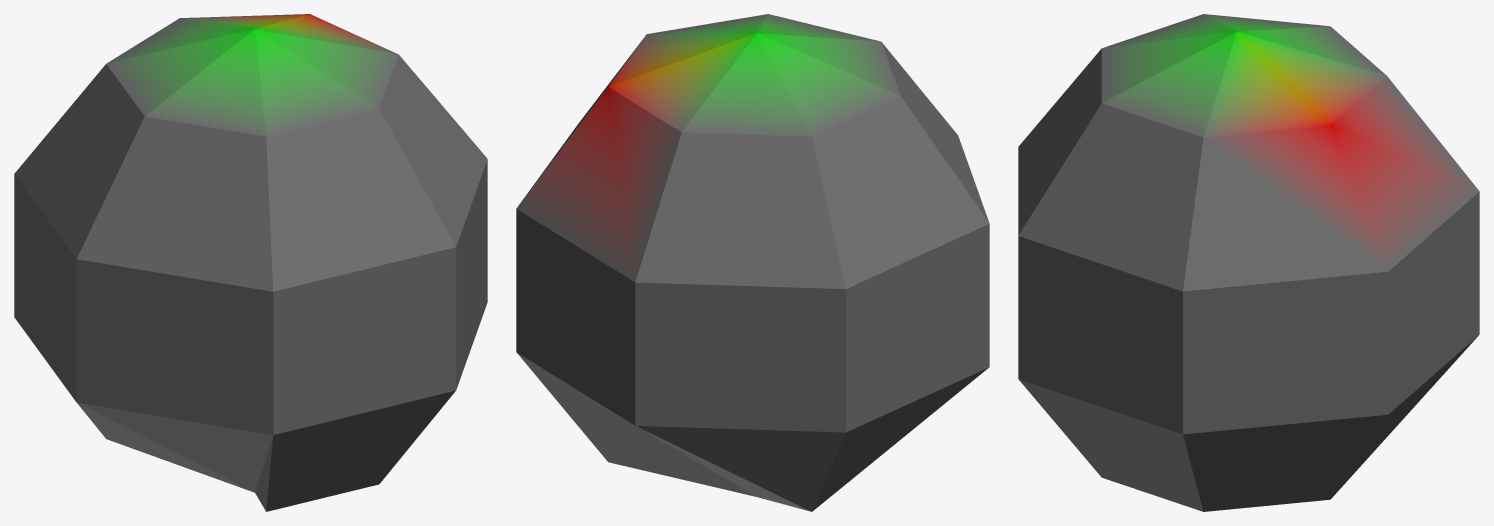
File: re_decimating_conquest_11_before.obj
3 renders of one model, left to right at view 1: azimuth 30°, elevation 25°; view 2: azimuth 150°, elevation 25°; view 3: azimuth 270°, elevation 25°, orthographic.
Bounding box in the file's own units: 1.85 × 2 × 1.81.
